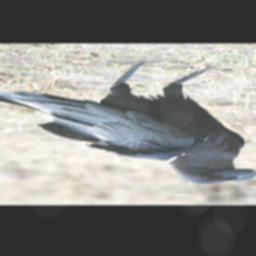Crow: (0, 60, 256, 184)
